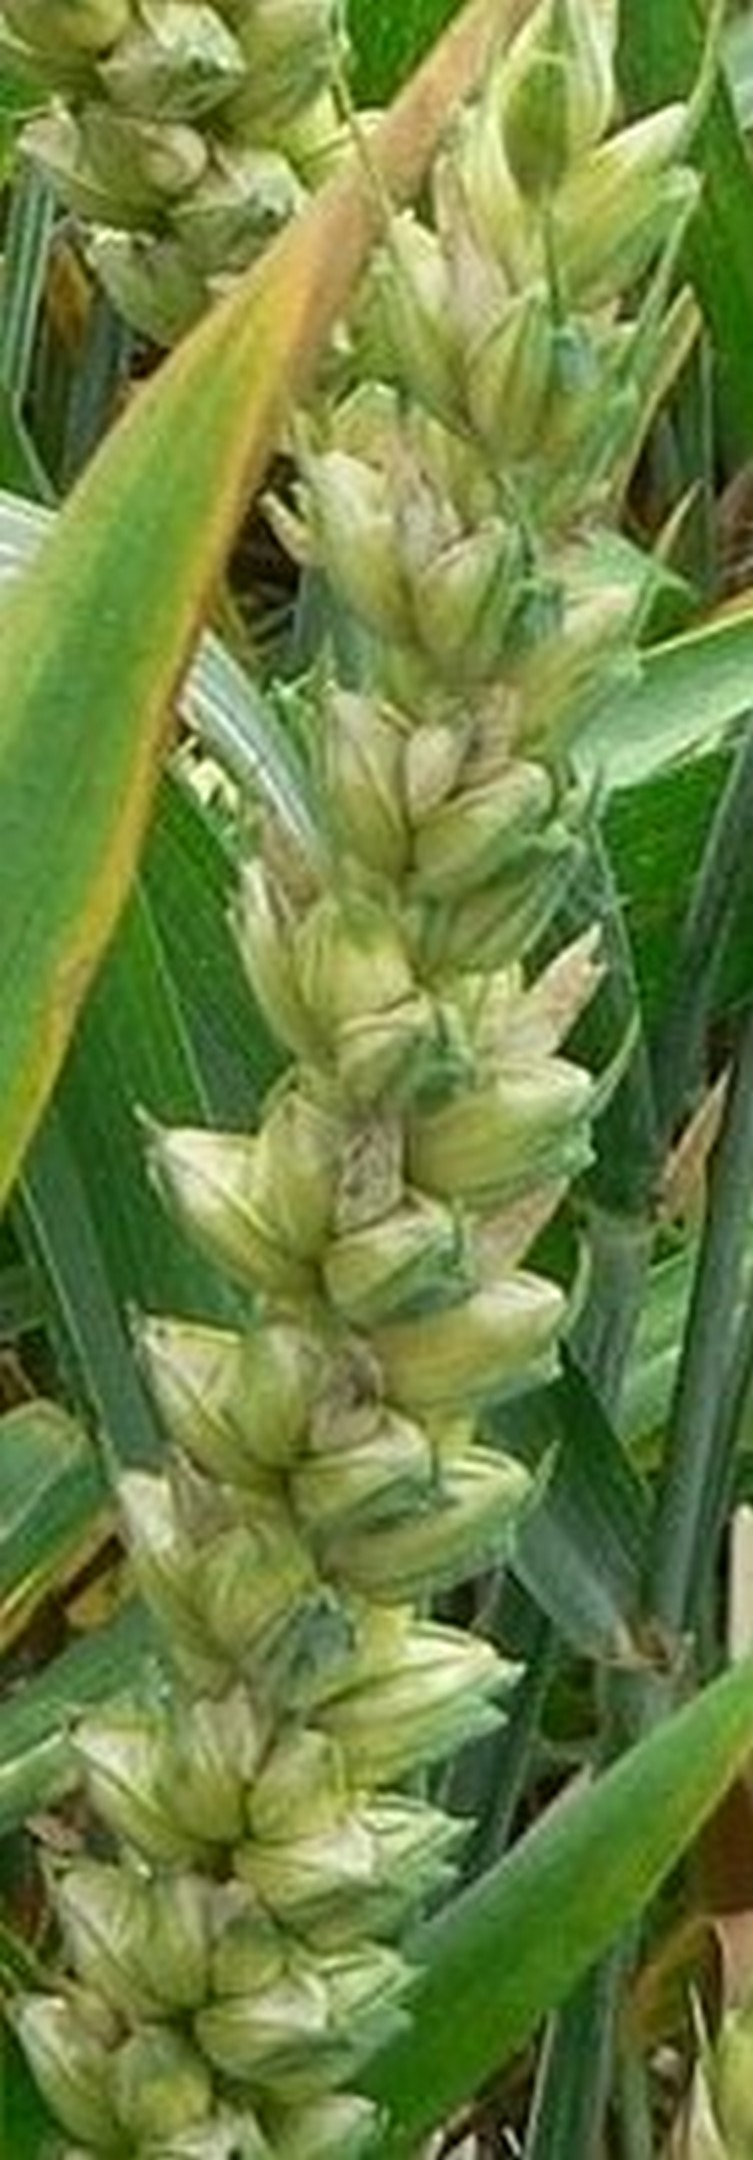Healthy Wheat: (72, 73, 738, 2126)
